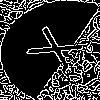X: (25, 25, 97, 77)
